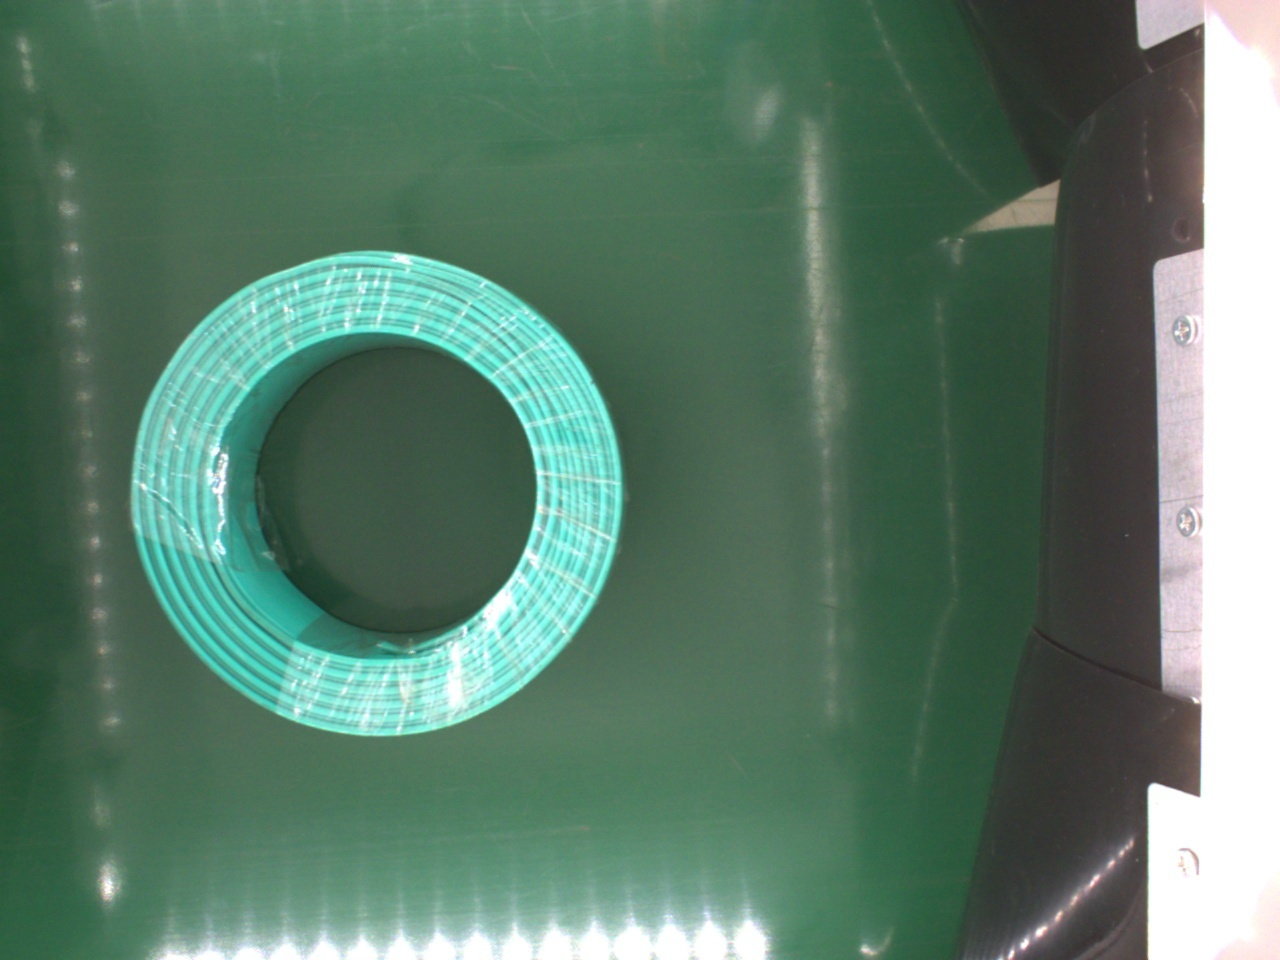green: (121, 248, 625, 747)
